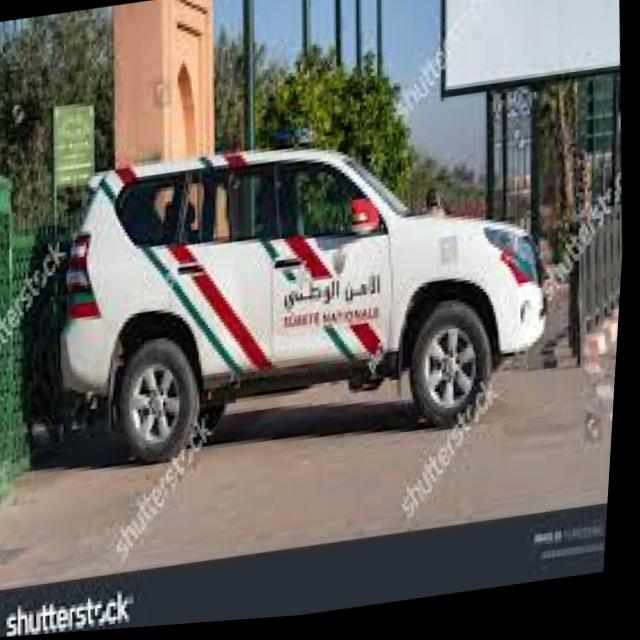Police car: (37, 84, 578, 493)
